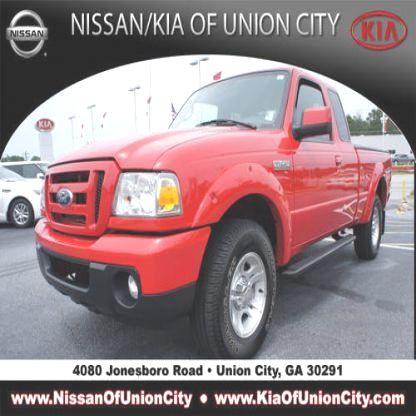Vehicle: (34, 64, 394, 362)
